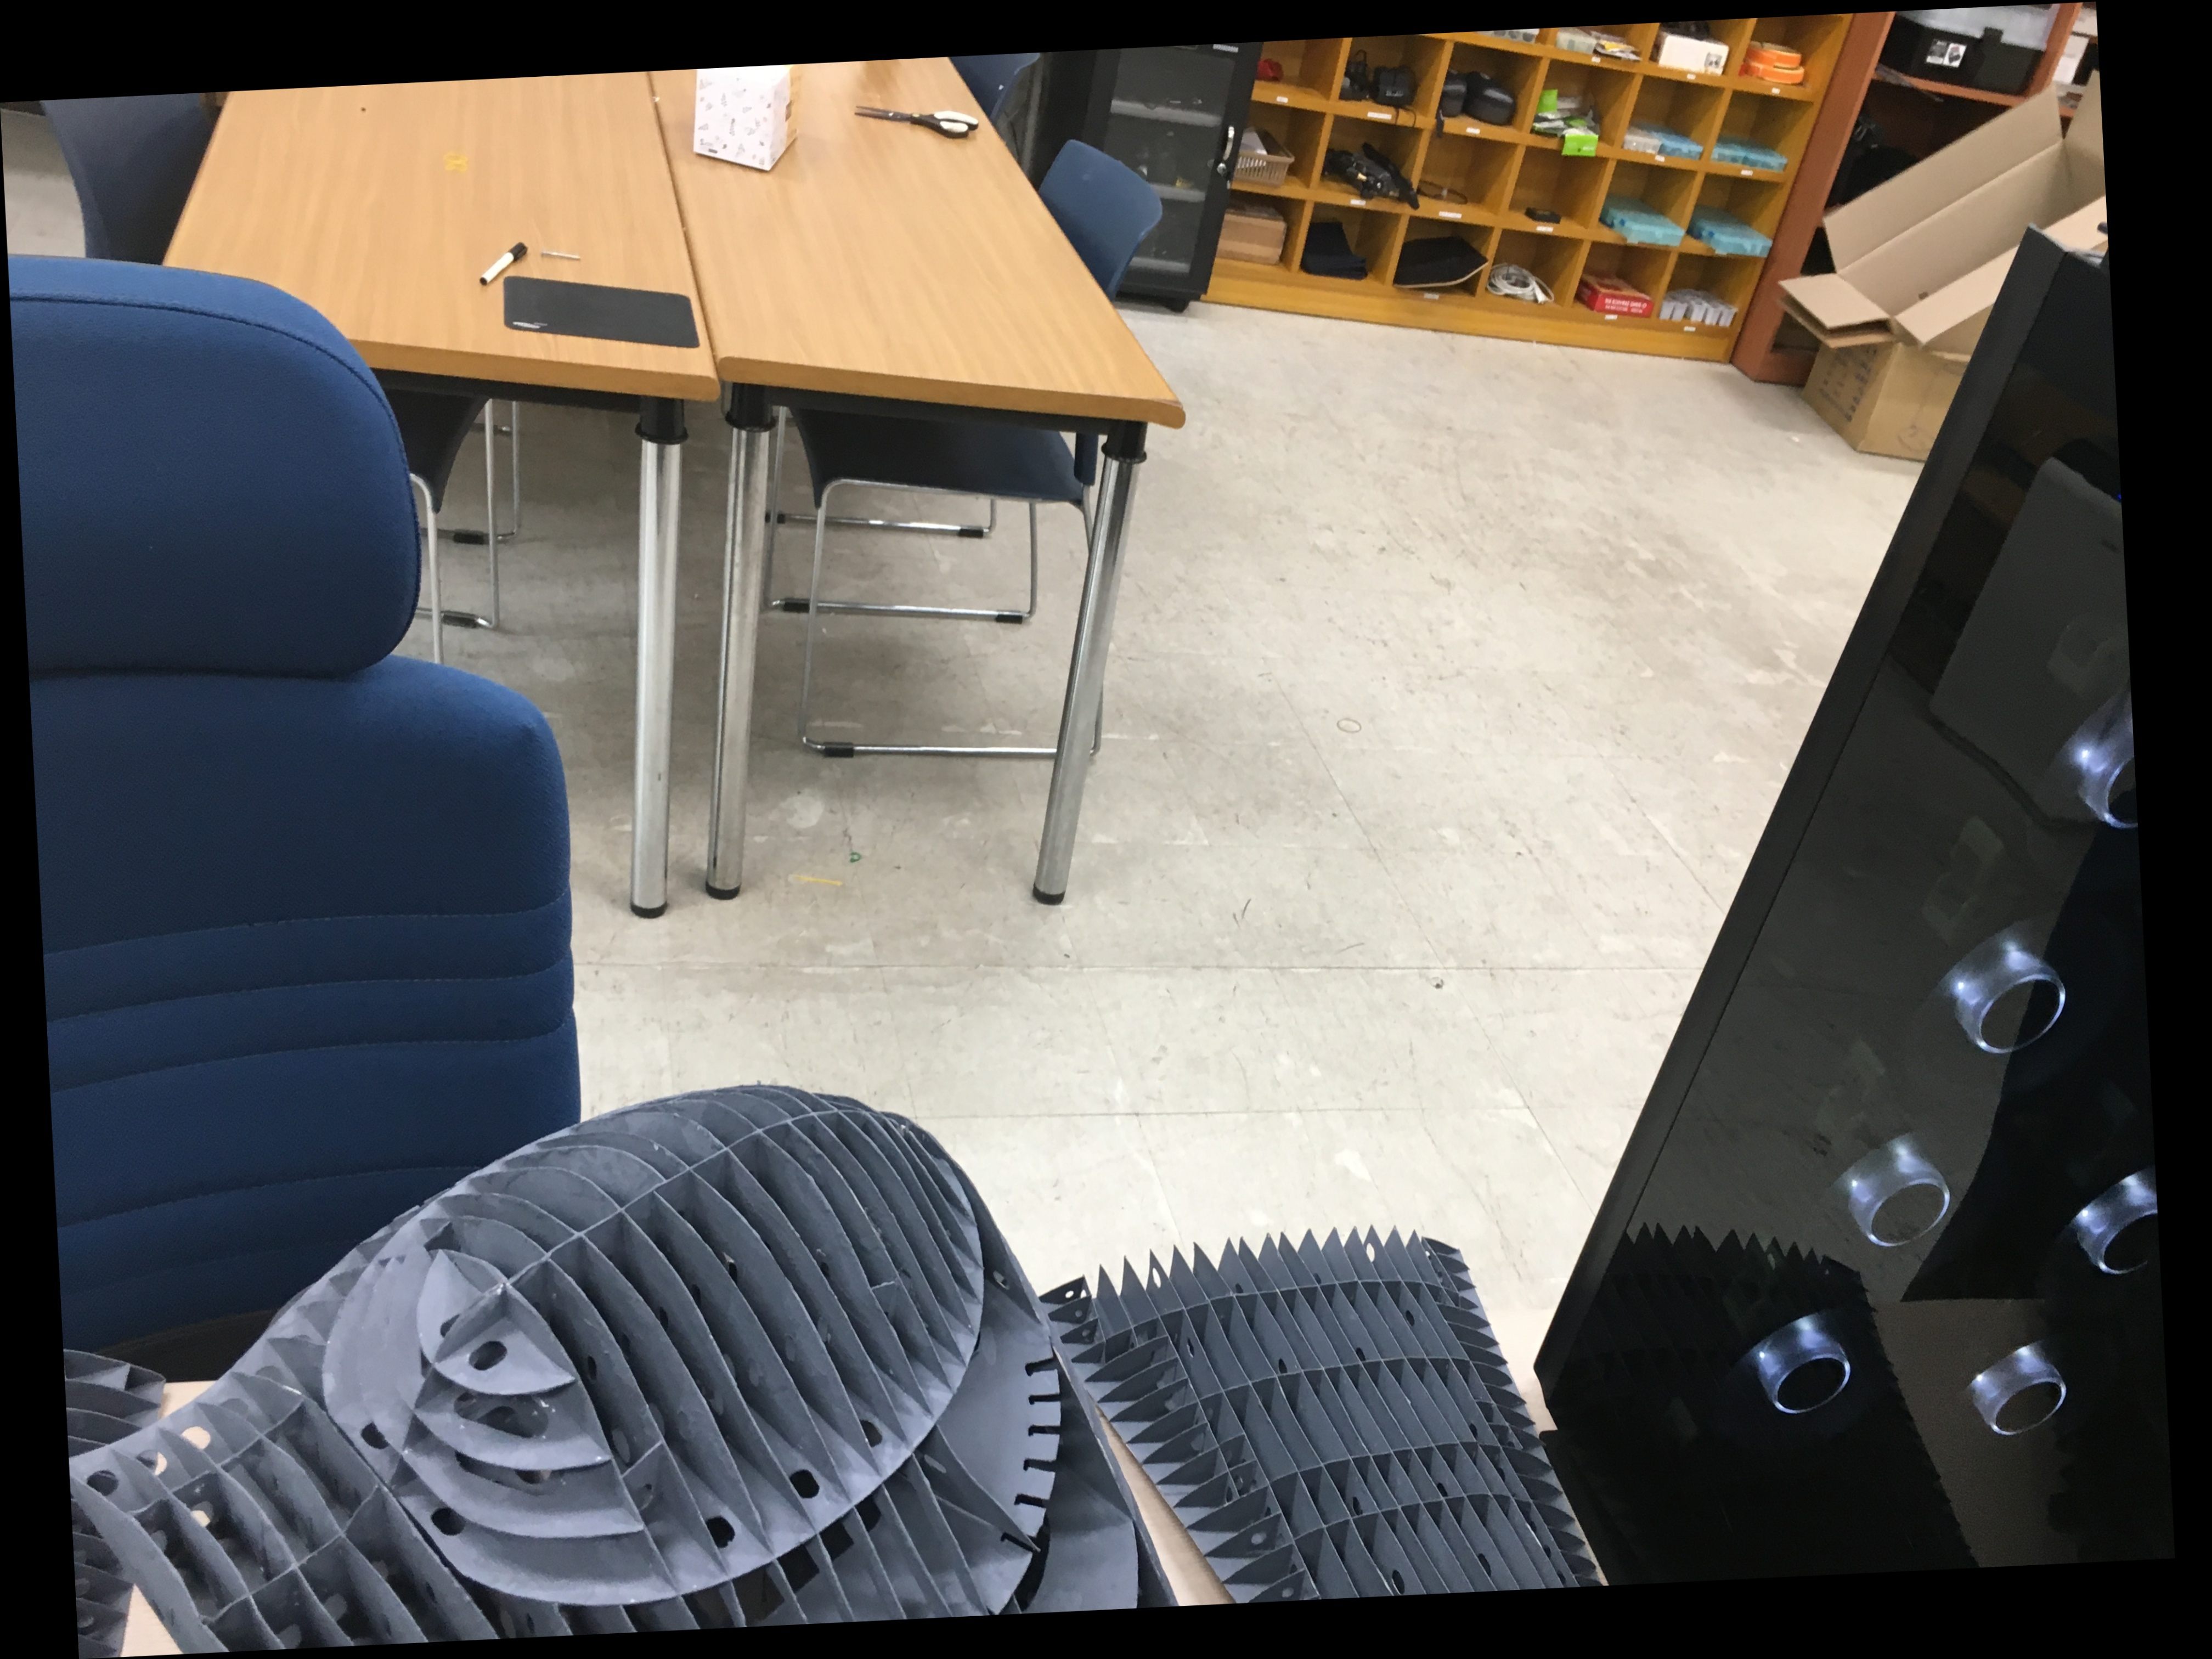B: (502, 58, 1181, 667)
